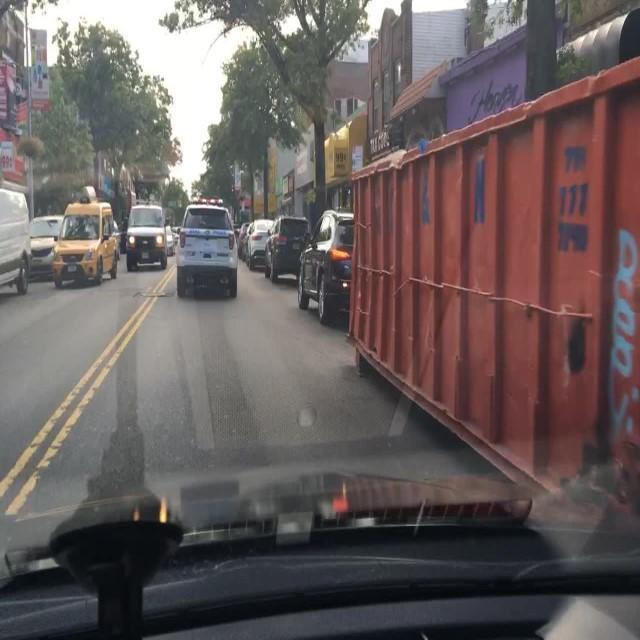normal: (299, 210, 354, 327), (174, 206, 239, 301), (51, 200, 122, 286), (0, 187, 31, 299), (123, 201, 173, 269), (264, 216, 311, 281), (25, 215, 61, 274), (242, 219, 278, 269)
